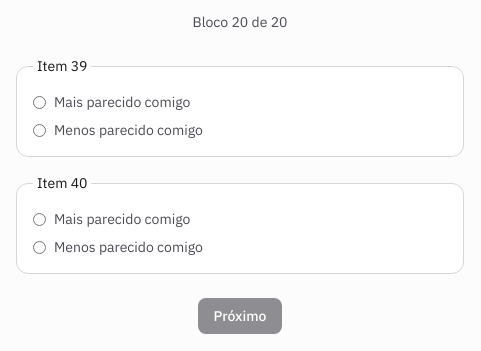
Test case: AssessmentPage › mostra a tela de agradecimento quando o ultimo bloco e respondido
This screenshot has width=481, height=351.
Expected: the text "Item 39" is shown, [33,56,92,76]
Click the radio button with aria-label "Item 39 — Mais parecido comigo": click(40, 102) [33,96,46,108]
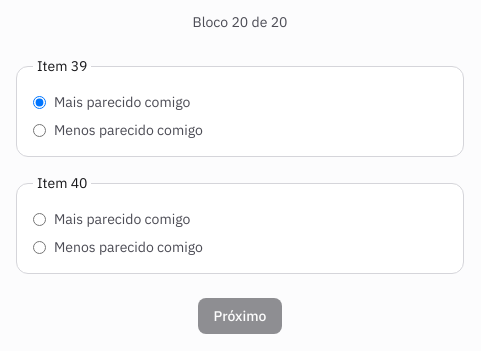
Click the radio button with aria-label "Item 40 — Menos parecido comigo": click(40, 247) [33,240,46,254]
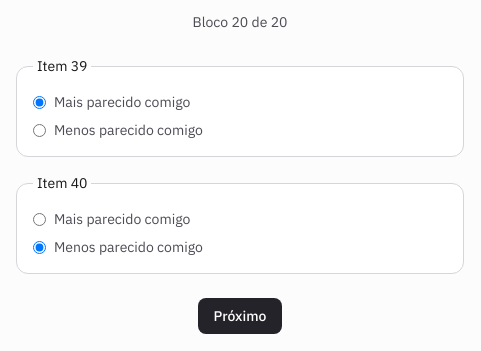
Click the button "Próximo": click(240, 316) [198,298,282,334]
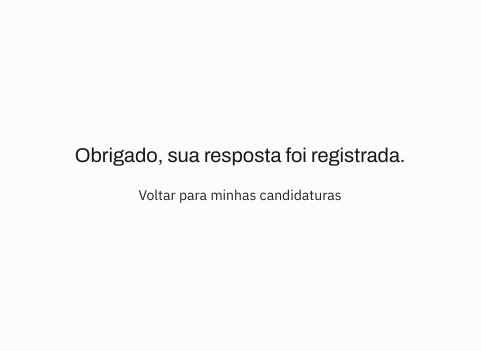
Now the text "Obrigado, sua resposta foi registrada." is shown, box [75,141,405,169]
